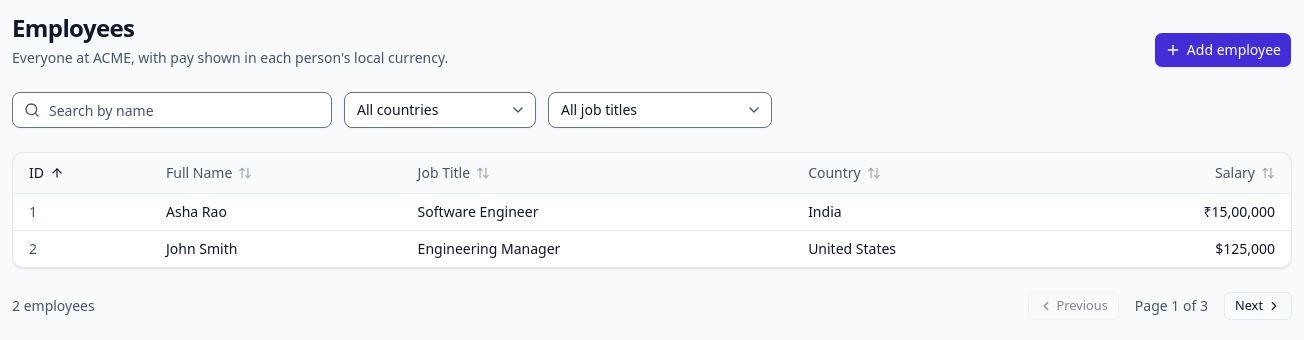
EmployeesPage › clicking Next moves to the next page
Expected: the text "Page 1 of 3" is shown, [1135, 296, 1208, 314]
Click the button "Next": (1258, 306) [1224, 292, 1292, 320]
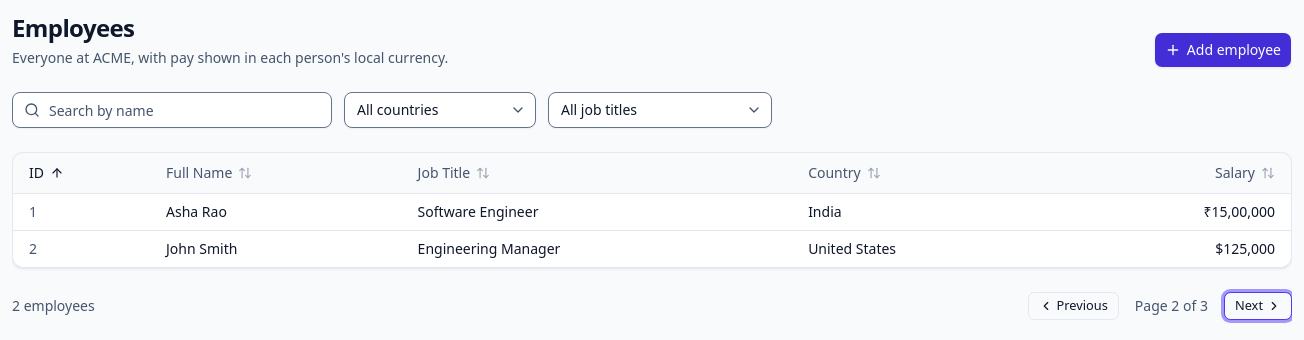
Result: the text "Page 2 of 3" is shown at [1135, 296, 1208, 314]
